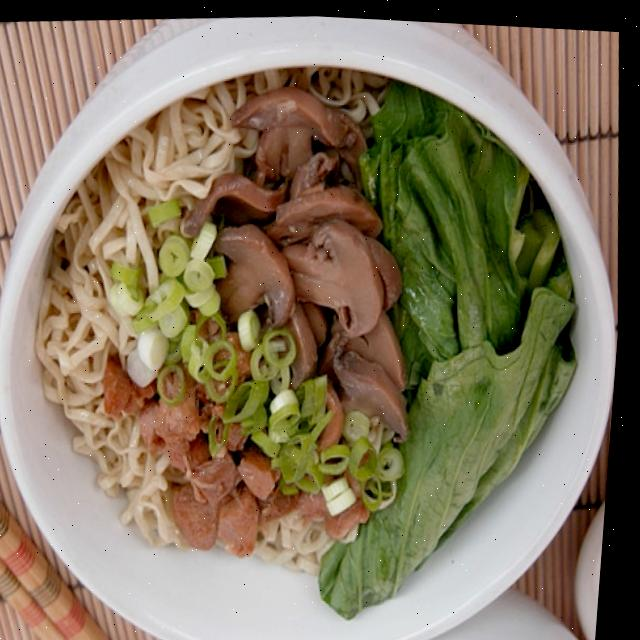面条主食: (0, 16, 639, 640)
